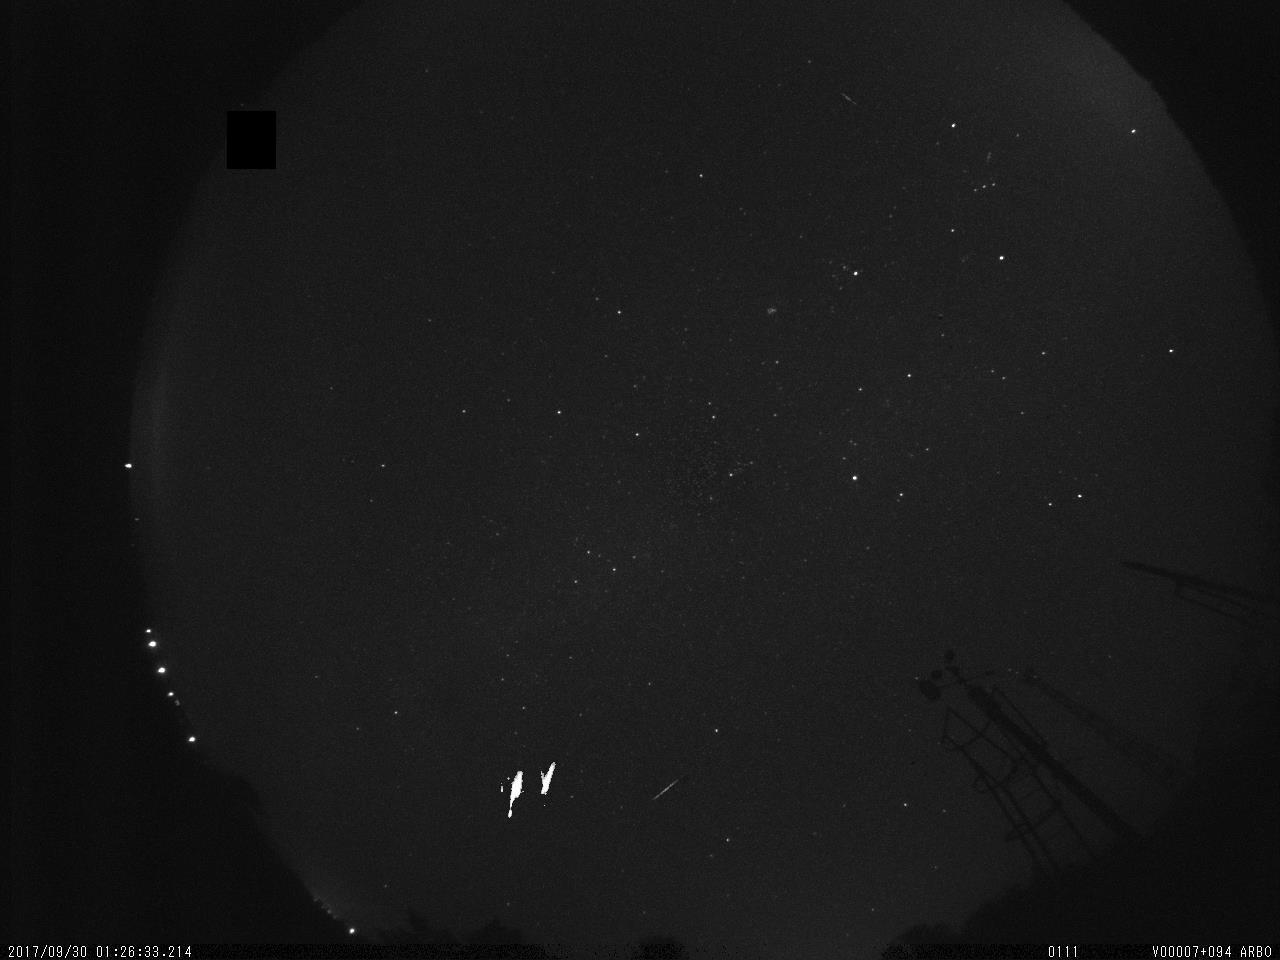TLE: (483, 743, 567, 833)
